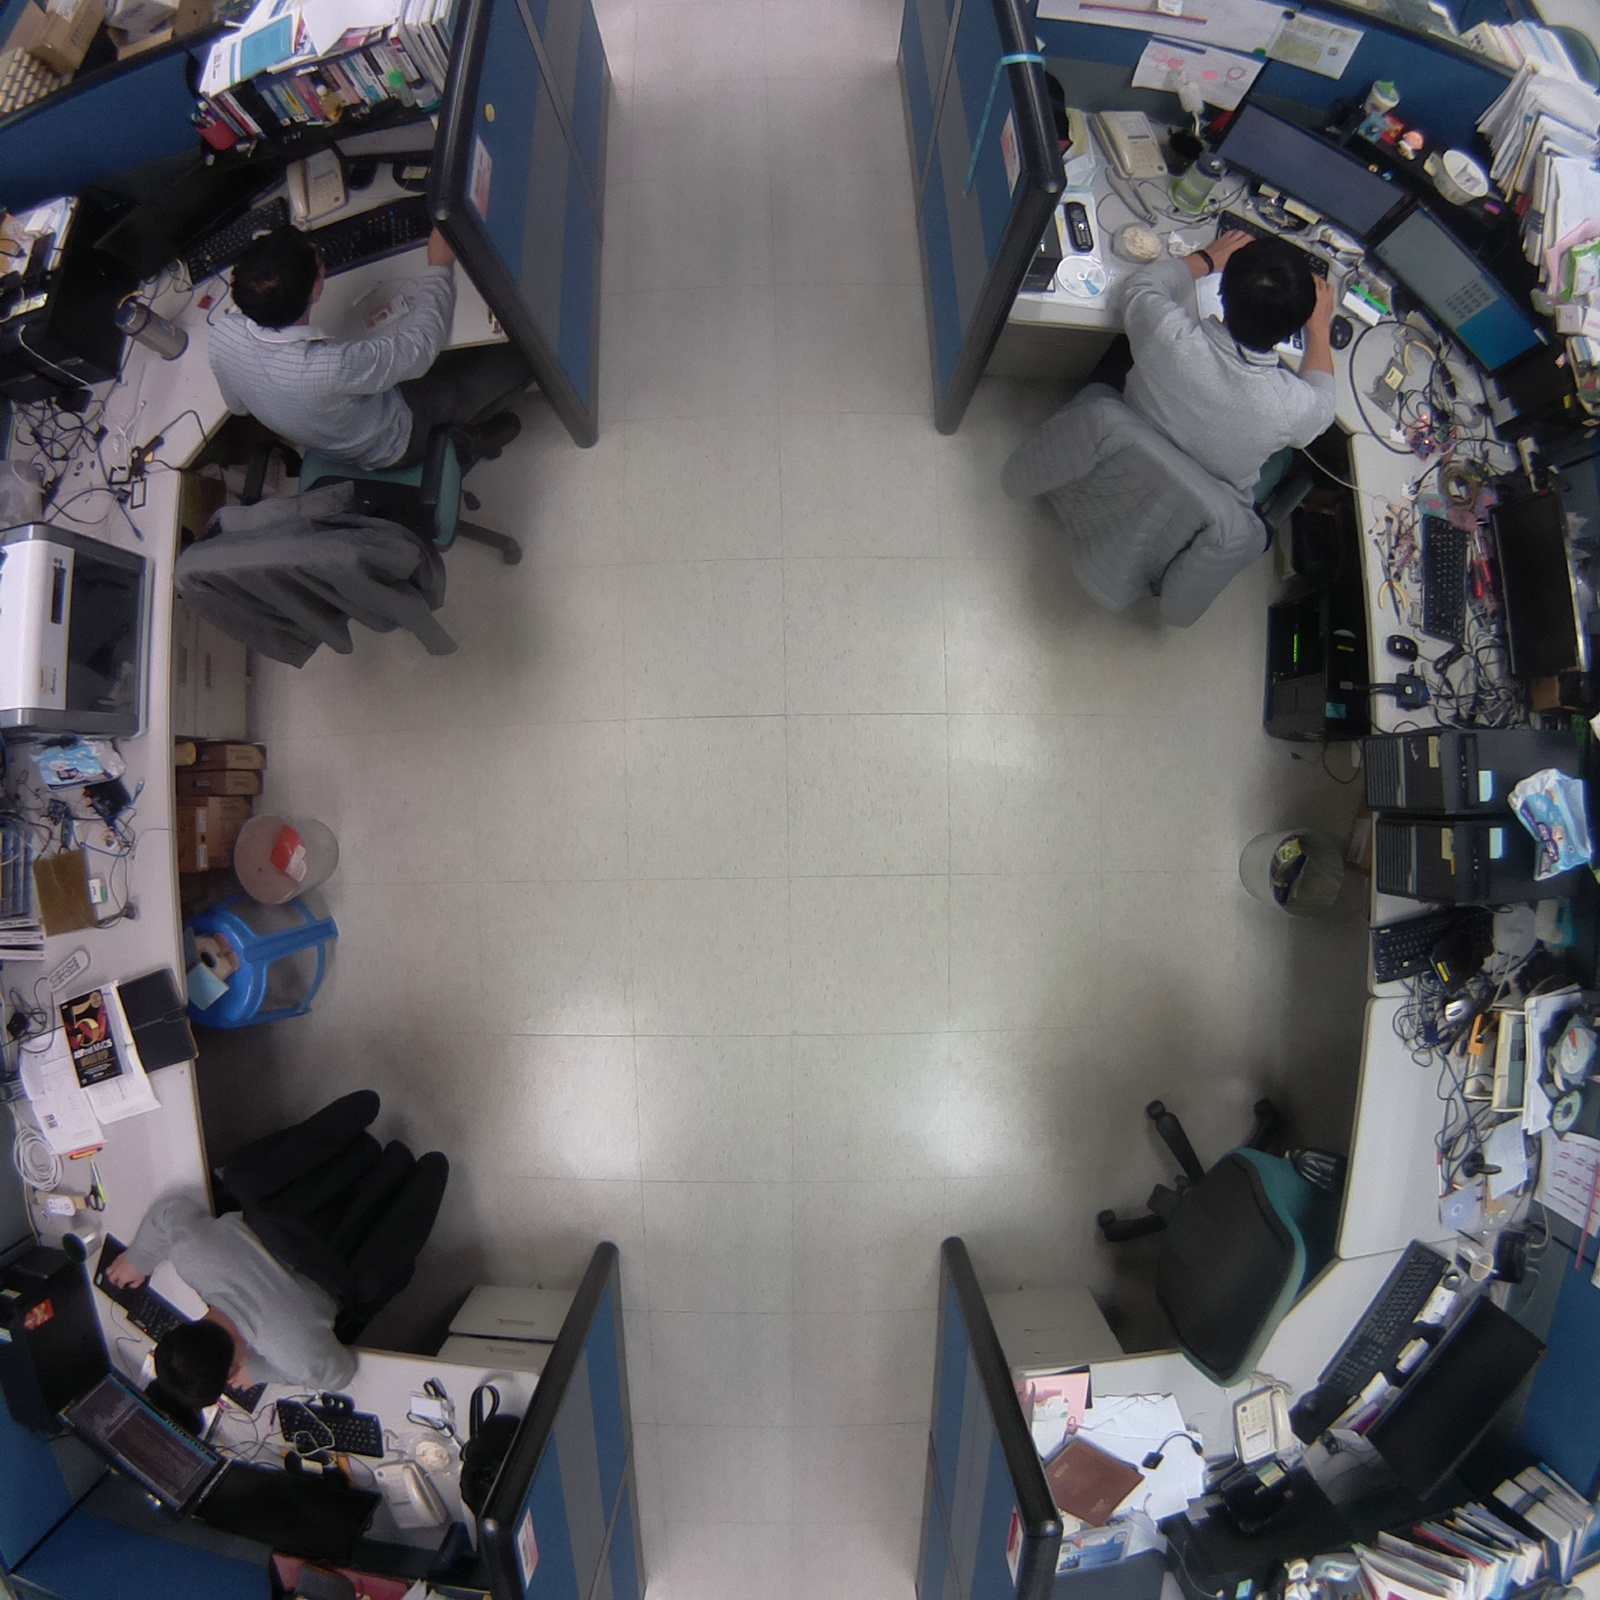chair: (1070, 1081, 1357, 1410)
sitting: (160, 195, 535, 702), (974, 212, 1361, 653), (89, 1073, 470, 1424)
